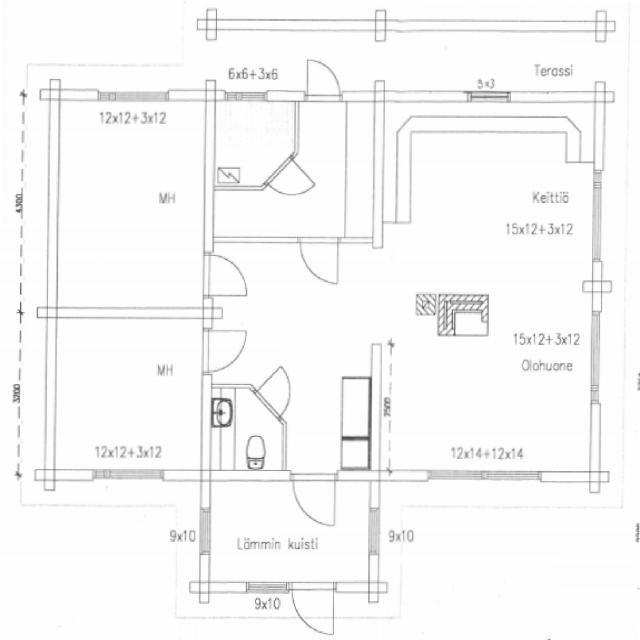door: (290, 470, 338, 530), (200, 324, 250, 376), (291, 584, 336, 638), (204, 248, 252, 298), (298, 235, 342, 289), (302, 54, 344, 104), (256, 360, 294, 415), (267, 160, 315, 198)
window: (585, 304, 605, 400), (587, 173, 607, 267), (476, 467, 545, 484), (365, 503, 383, 560), (197, 503, 214, 561), (106, 88, 167, 104), (245, 580, 289, 598), (221, 88, 269, 104)
zone: (54, 98, 210, 314), (383, 332, 596, 470), (50, 316, 207, 476), (397, 127, 591, 230), (204, 475, 370, 587), (252, 344, 372, 469), (212, 96, 296, 190), (206, 381, 287, 475)
